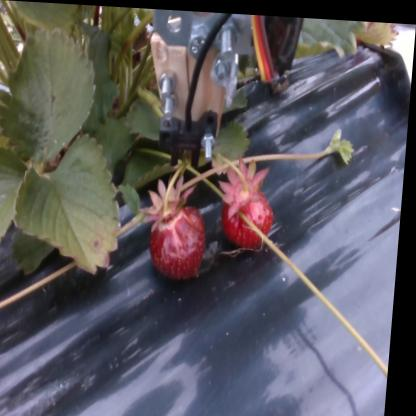ripe: (152, 203, 213, 279), (226, 179, 277, 246)
